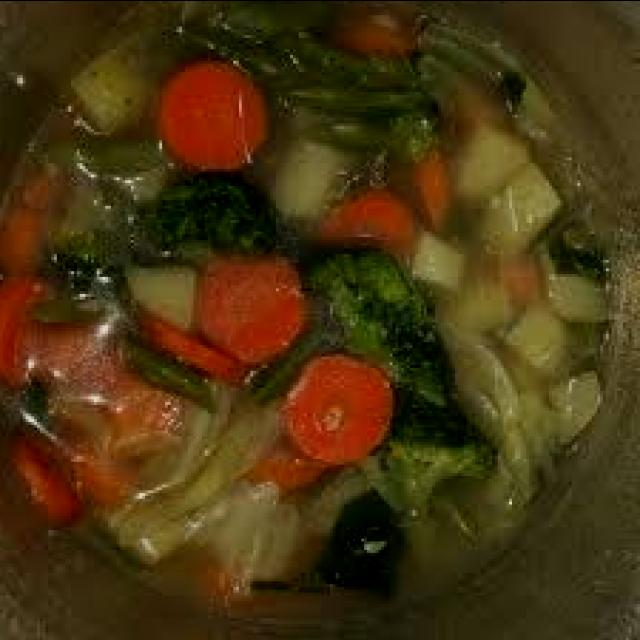sop: (0, 0, 606, 600)
